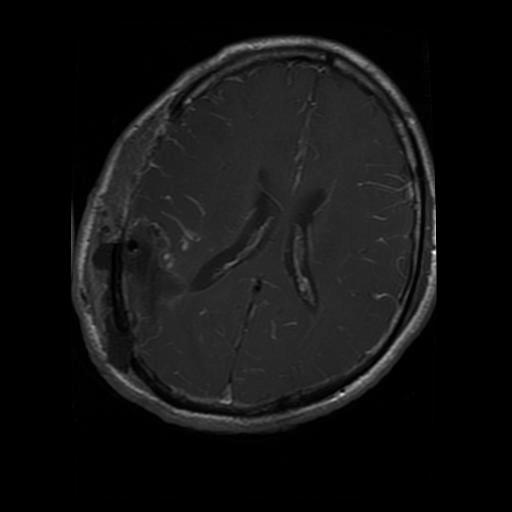Tumour-Glioma: (88, 201, 185, 377)
